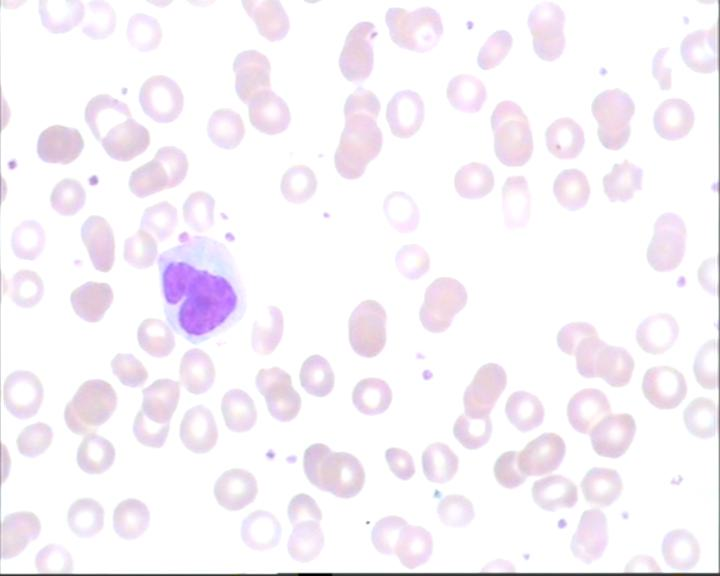mono: (153, 231, 245, 347)
